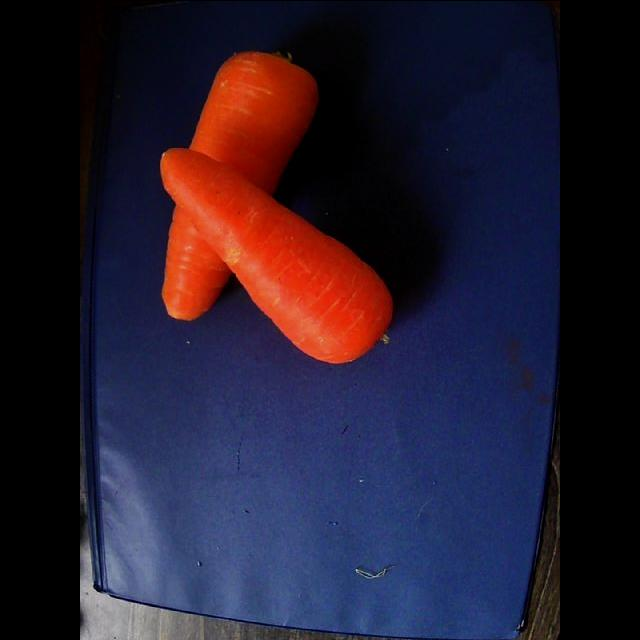zanahoria: (160, 148, 393, 362), (190, 50, 318, 193), (162, 205, 231, 319)
